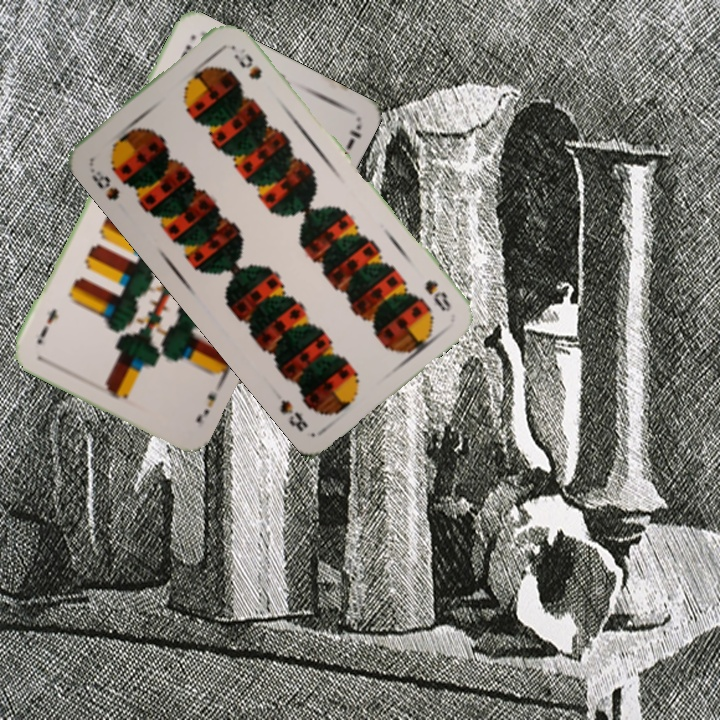E7: (192, 376, 227, 425)
S8: (85, 153, 123, 203), (420, 275, 454, 315)
